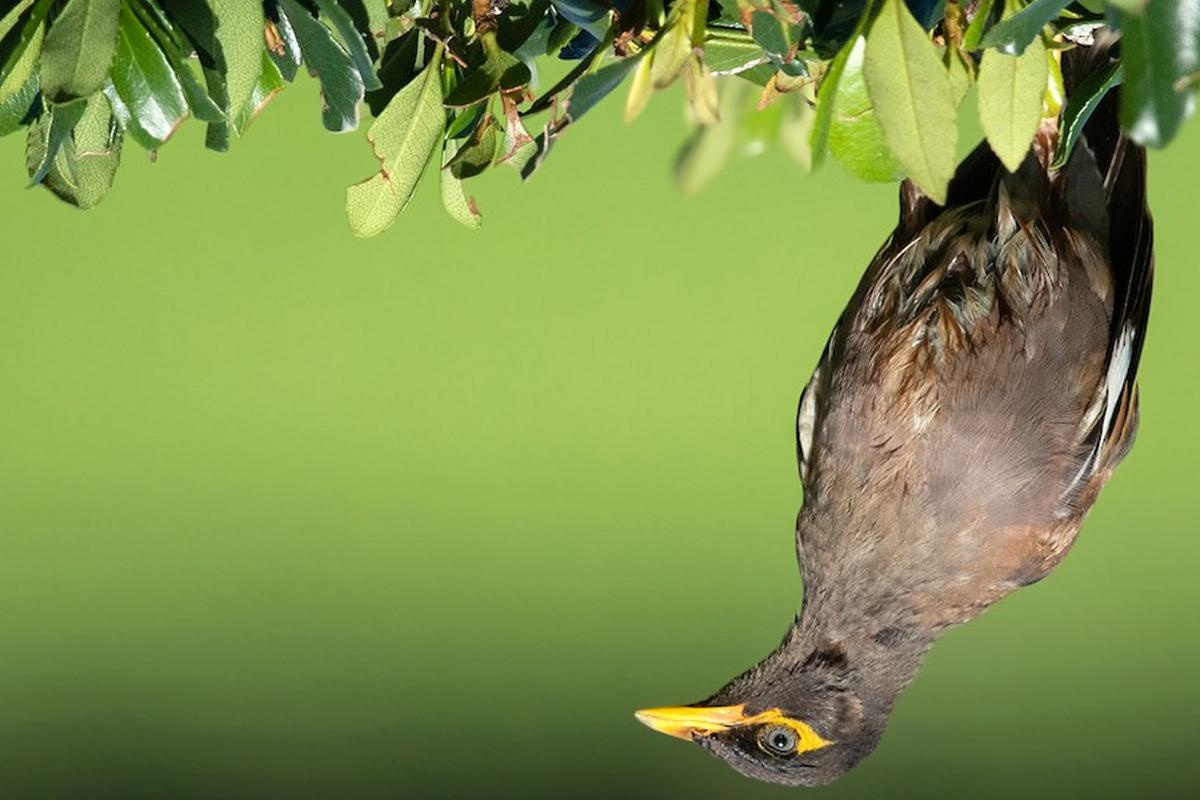myna: (633, 122, 1158, 778)
